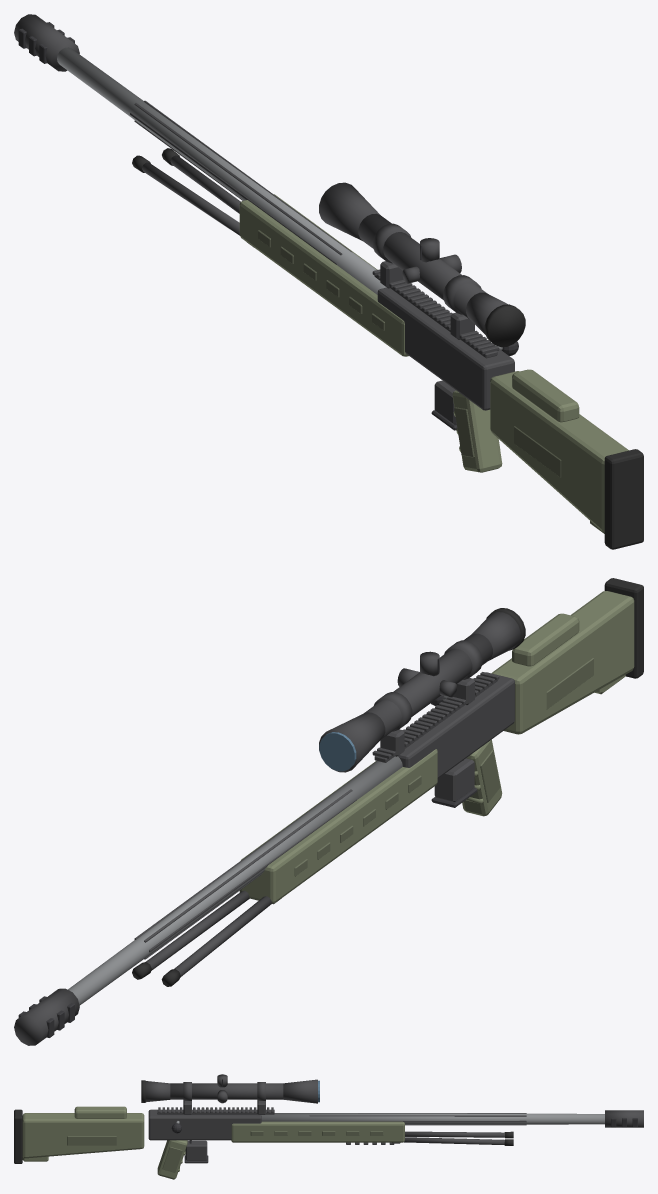
The model's file is sniper.glb.
3 views of the same model, one above another, from view 1: azimuth 30°, elevation 25°; view 2: azimuth 150°, elevation 25°; view 3: azimuth 270°, elevation 25° (orthographic). The views are drawn at different scales.
Visible parts, largest first — view 1: Sniper; view 2: Sniper; view 3: Sniper.
Boxes of the visible parts, <box> form: Sniper: <box>14,14,643,549</box>; Sniper: <box>14,578,643,1045</box>; Sniper: <box>14,1074,643,1179</box>.
Bounding box in the file's own units: 0.095 × 0.2556 × 1.45.
